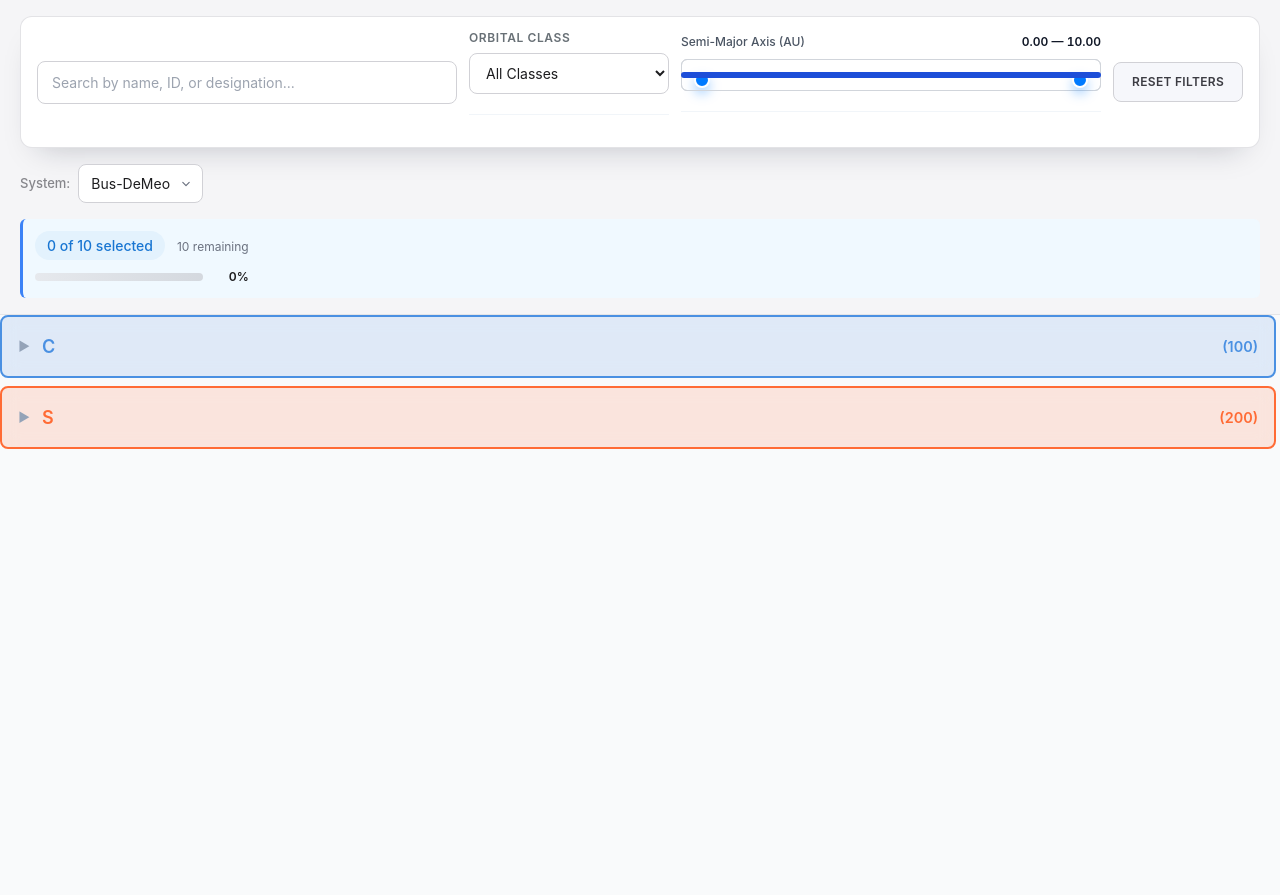
Test: Performance Tests › TaxonomyTree Performance › should handle classification expansion efficiently
# Measure expansion performance
Click the text "S" at (48, 418), box [42,407,54,428]
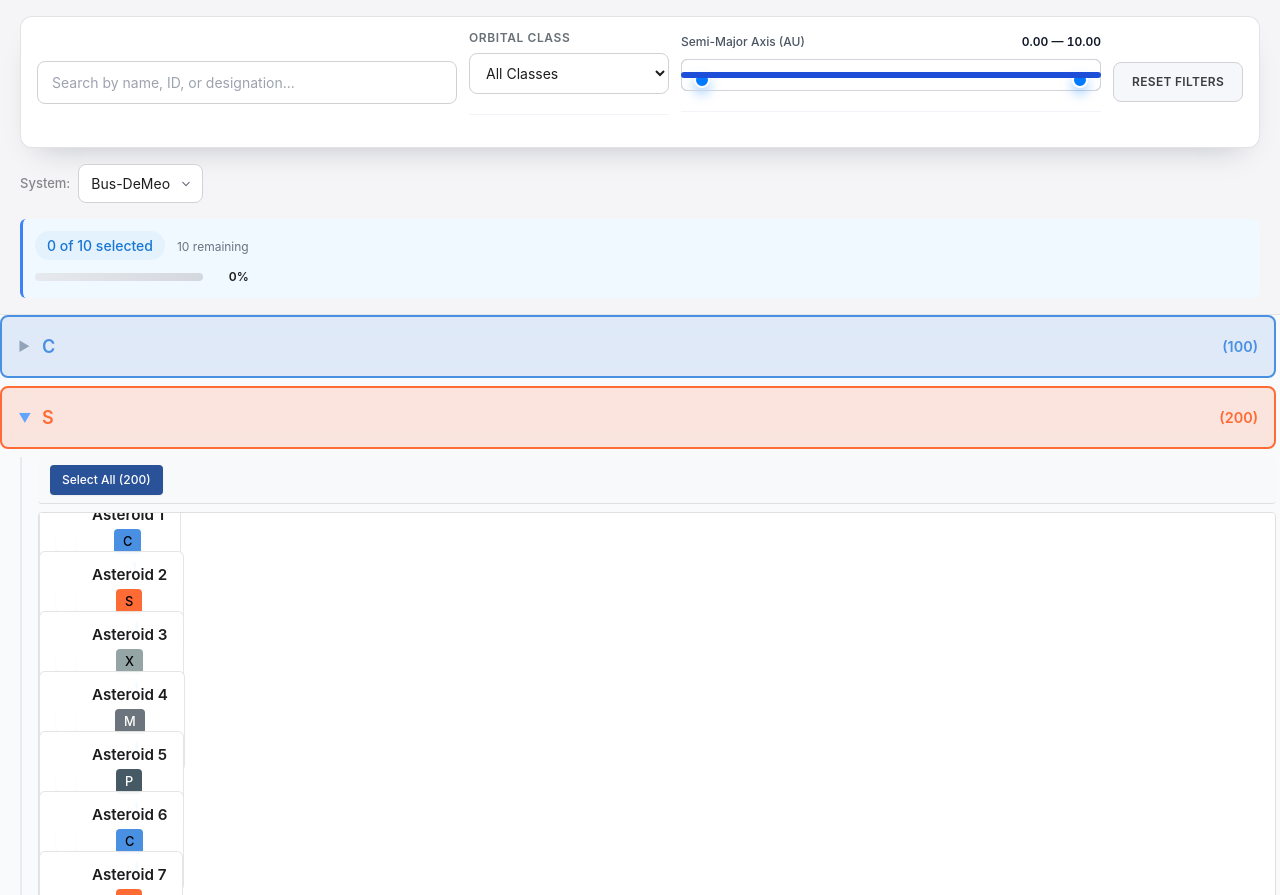
Expected: the text "Asteroid 1" is shown, [92,512,164,527]
